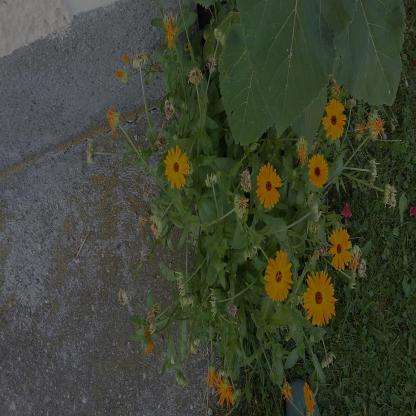marigold: (302, 270, 338, 327), (264, 250, 294, 304), (256, 162, 283, 210), (164, 145, 190, 190), (328, 226, 353, 272), (321, 98, 347, 140), (308, 152, 328, 188), (302, 380, 314, 414)
